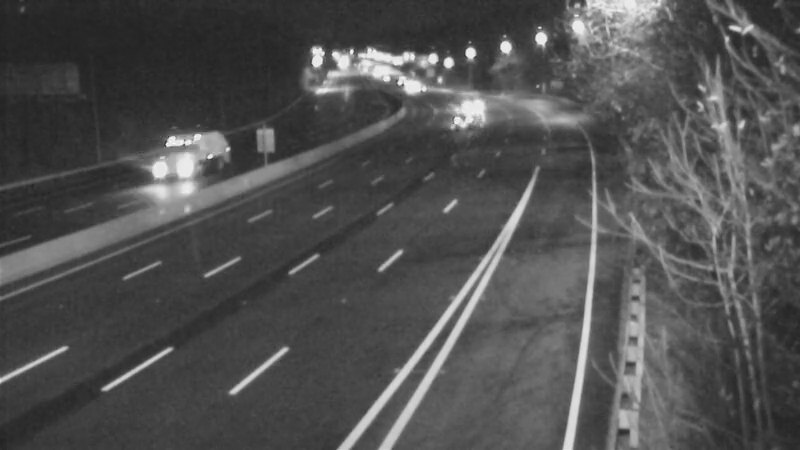vehicle: (134, 128, 214, 208), (385, 61, 435, 111), (445, 81, 495, 131), (435, 99, 485, 149)
